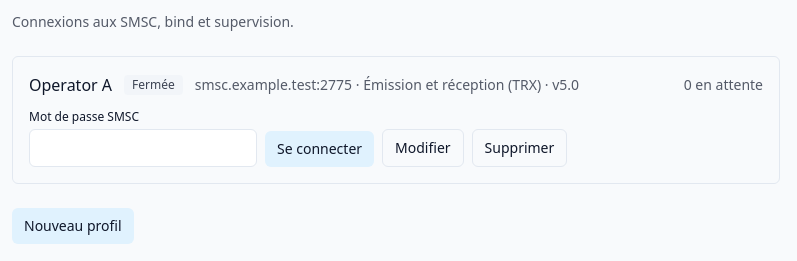
SessionsView › shows the state the backend reports, in words
The width and height of the screenshot is (797, 261).
expect the text "Fermée" is shown: met, box 124,75 -> 183,95
Type "n0tr34l" into the password field labelled "Mot de passe SMSC" at (143, 148), box 29,129 -> 257,167
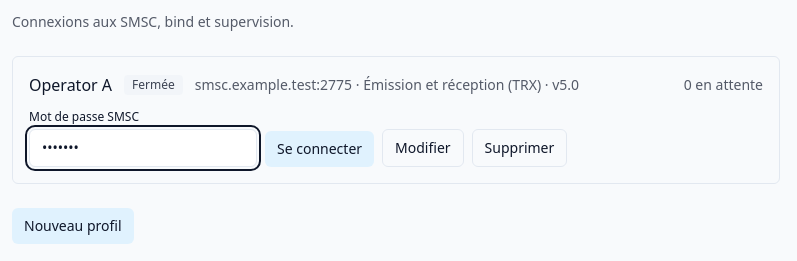
Click the button "Se connecter" at (320, 149), box 265,131 -> 374,167
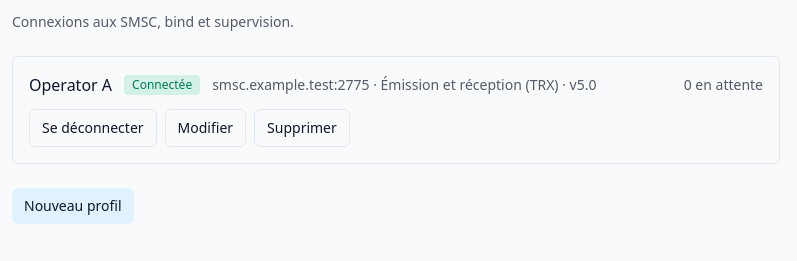
expect the text "Connectée" is shown: met, box 124,75 -> 200,95
